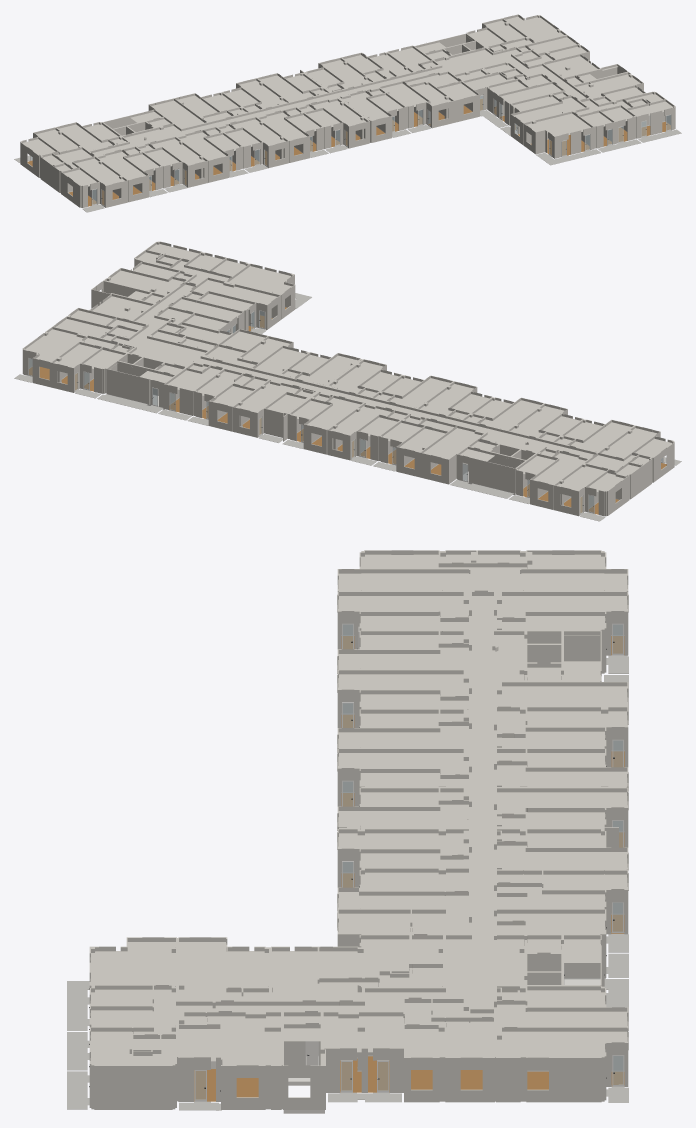
3 views of the same model, one above another, from view 1: azimuth 30°, elevation 25°; view 2: azimuth 150°, elevation 25°; view 3: azimuth 270°, elevation 25° (orthographic). The views are drawn at different scales.
Parts seen in each view (by area): view 1: in_L04_walls__int_wall, in_L04_ceiling__int_wall, in_L04_u51_walls__int_wall, in_L04_u62_walls__int_wall, in_L04_u51_ceiling__int_wall, in_L04_u62_ceiling__int_wall, in_L04_u54_walls__int_wall, in_L04_u54_ceiling__int_wall, in_L04_u48_ceiling__int_wall, in_L04_u43_ceiling__int_wall, in_L04_u53_ceiling__int_wall, in_L04_u49_ceiling__int_wall (+32 smaller); view 2: in_L04_walls__int_wall, in_L04_ceiling__int_wall, in_L04_u62_walls__int_wall, in_L04_u51_ceiling__int_wall, in_L04_u62_ceiling__int_wall, in_L04_u48_walls__int_wall, in_L04_u54_ceiling__int_wall, in_L04_u48_ceiling__int_wall, in_L04_u43_ceiling__int_wall, in_L04_u43_walls__int_wall, in_L04_u53_ceiling__int_wall, in_L04_u49_ceiling__int_wall (+29 smaller); view 3: in_L04_walls__int_wall, in_L04_ceiling__int_wall, in_L04_u51_ceiling__int_wall, in_L04_u62_ceiling__int_wall, in_L04_u54_ceiling__int_wall, in_L04_u48_walls__int_wall, in_L04_u48_ceiling__int_wall, in_L04_u53_ceiling__int_wall, in_L04_u49_ceiling__int_wall, in_L04_u51_walls__int_wall, in_L04_u43_ceiling__int_wall, in_L04_u49_walls__int_wall (+37 smaller).
Part boxes in pixels (x1,y1,x2,y2): in_L04_walls__int_wall: (40,33,675,202); in_L04_ceiling__int_wall: (92,42,617,155); in_L04_u51_walls__int_wall: (523,91,675,158); in_L04_u62_walls__int_wall: (20,127,127,207); in_L04_u51_ceiling__int_wall: (526,94,672,135); in_L04_u62_ceiling__int_wall: (23,129,124,186); in_L04_u54_walls__int_wall: (378,69,488,128); in_L04_u54_ceiling__int_wall: (382,70,485,106); in_L04_u48_ceiling__int_wall: (469,16,563,50); in_L04_u43_ceiling__int_wall: (151,95,244,127); in_L04_u53_ceiling__int_wall: (465,64,561,103); in_L04_u49_ceiling__int_wall: (517,37,597,77); in_L04_walls__int_wall: (22,259,651,515); in_L04_ceiling__int_wall: (113,284,593,461); in_L04_u62_walls__int_wall: (554,425,674,516); in_L04_u51_ceiling__int_wall: (137,244,291,294); in_L04_u62_ceiling__int_wall: (557,428,671,491); in_L04_u48_walls__int_wall: (22,327,133,393); in_L04_u54_ceiling__int_wall: (182,331,305,374); in_L04_u48_ceiling__int_wall: (25,329,128,368); in_L04_u43_ceiling__int_wall: (383,416,480,459); in_L04_u43_walls__int_wall: (380,414,483,484); in_L04_u53_ceiling__int_wall: (152,299,240,343); in_L04_u49_ceiling__int_wall: (56,296,150,339); in_L04_walls__int_wall: (91,551,628,1109); in_L04_ceiling__int_wall: (215,596,600,1065); in_L04_u51_ceiling__int_wall: (90,942,212,1065); in_L04_u62_ceiling__int_wall: (338,554,627,590); in_L04_u54_ceiling__int_wall: (338,872,468,962); in_L04_u48_walls__int_wall: (497,986,628,1102); in_L04_u48_ceiling__int_wall: (497,990,627,1057); in_L04_u53_ceiling__int_wall: (272,939,442,1000); in_L04_u49_ceiling__int_wall: (323,1003,493,1057); in_L04_u51_walls__int_wall: (89,937,180,1109); in_L04_u43_ceiling__int_wall: (497,686,627,747); in_L04_u49_walls__int_wall: (328,999,497,1102).
Bounding box in the file's own units: 82.81 × 3.6 × 38.11.
